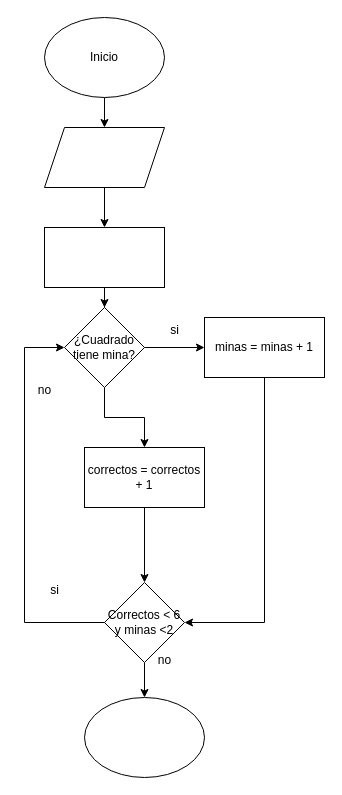
Some shapes in this 342 by 795 pixel diagram are drawn without their labels. Each missing label, with the centre of its shape:
"Cuadrado" belongs at (104,157).
"FIN" belongs at (144,737).
"minas = 0 N = 1" belongs at (104,257).
